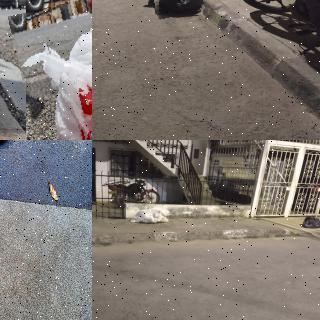Garbage: (17, 0, 92, 140), (153, 0, 204, 17), (126, 208, 173, 225), (300, 214, 320, 229)
